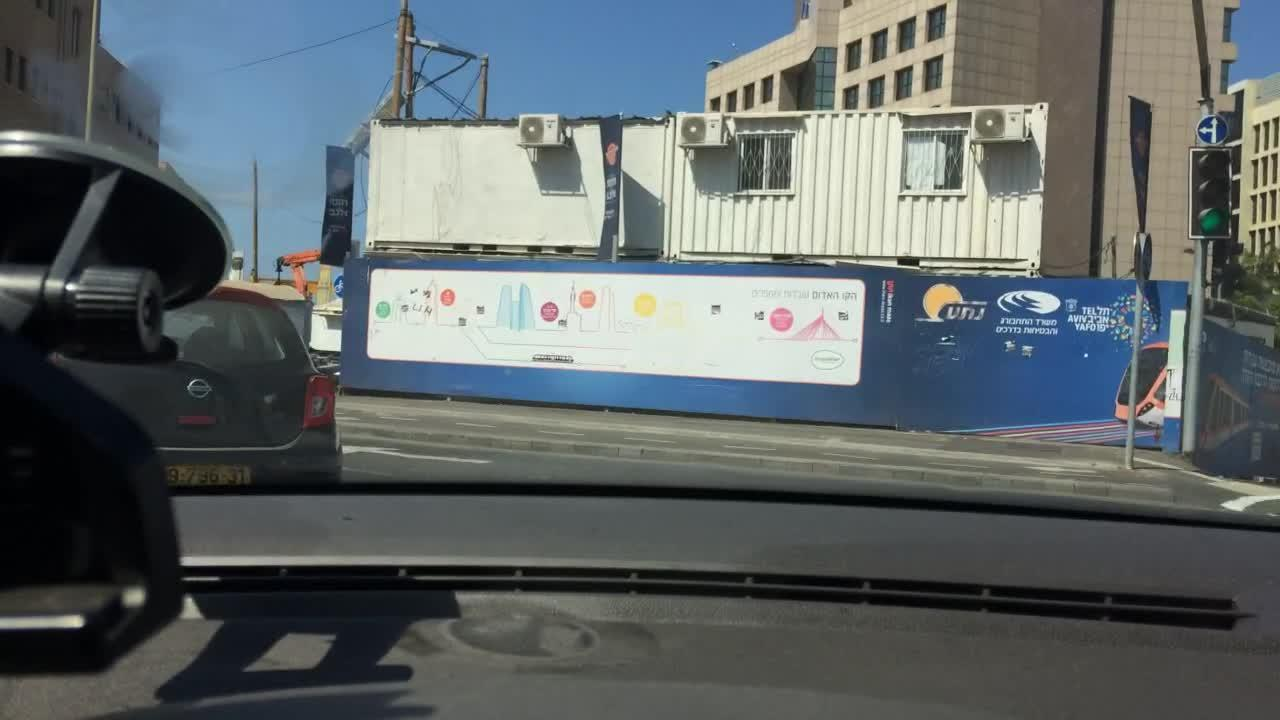Nissan: (179, 369, 212, 403)
